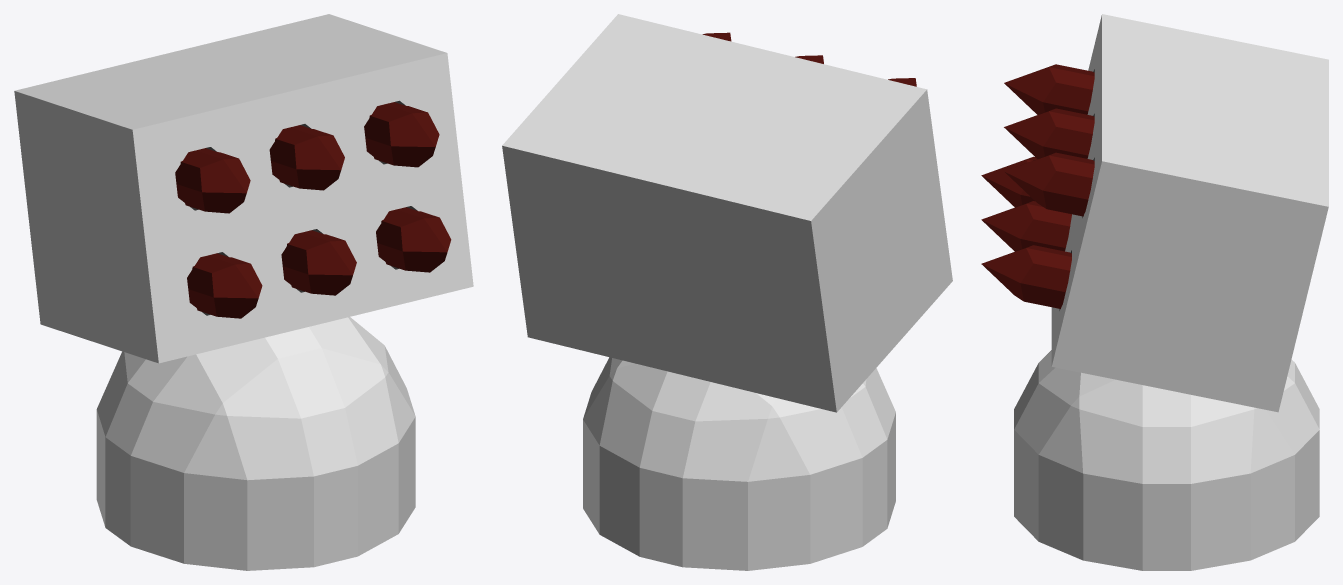
The model's file is Missile Turret.fbx.
The picture shows the model from 3 angles, left to right: view 1: azimuth 30°, elevation 25°; view 2: azimuth 150°, elevation 25°; view 3: azimuth 270°, elevation 25°; orthographic projection. The views are drawn at different scales.
Parts seen in each view (by area): view 1: Head, Body, Missile1, Missile5, Missile6, Missile2, Missile4, Missile3; view 2: Head, Body; view 3: Head, Body, Missile3, Missile6, Missile1, Missile2, Missile5, Missile4.
Part boxes in pixels (box(x1,y1,x2,y2)): Head: box(14, 14, 473, 363); Body: box(96, 317, 415, 570); Missile1: box(175, 148, 250, 213); Missile5: box(281, 230, 356, 295); Missile6: box(376, 207, 451, 272); Missile2: box(269, 125, 344, 190); Missile4: box(187, 253, 262, 318); Missile3: box(364, 102, 439, 167); Head: box(502, 14, 952, 412); Body: box(583, 357, 895, 570); Head: box(1051, 14, 1328, 412); Body: box(1014, 350, 1319, 570); Missile3: box(1004, 152, 1094, 216); Missile6: box(981, 245, 1071, 308); Missile1: box(1004, 64, 1094, 114); Missile2: box(1004, 108, 1094, 158); Missile5: box(981, 201, 1071, 251); Missile4: box(981, 156, 1037, 207).
Bounding box in the file's own units: 876 × 874 × 1162.
